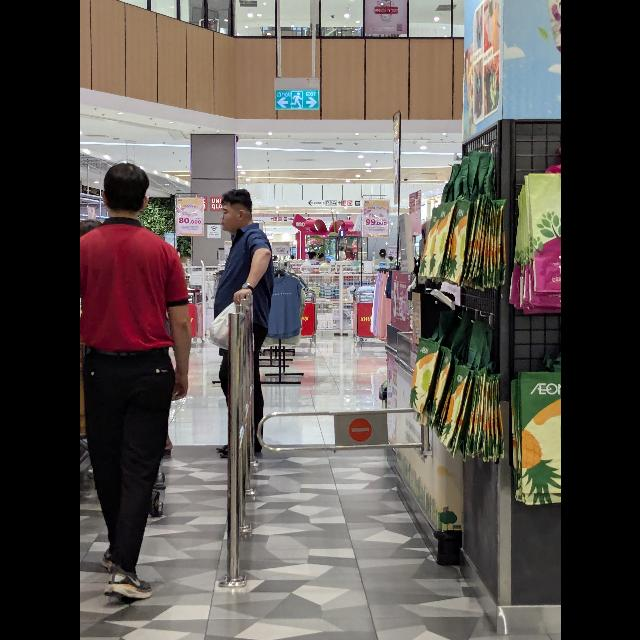exit: (275, 88, 318, 110)
